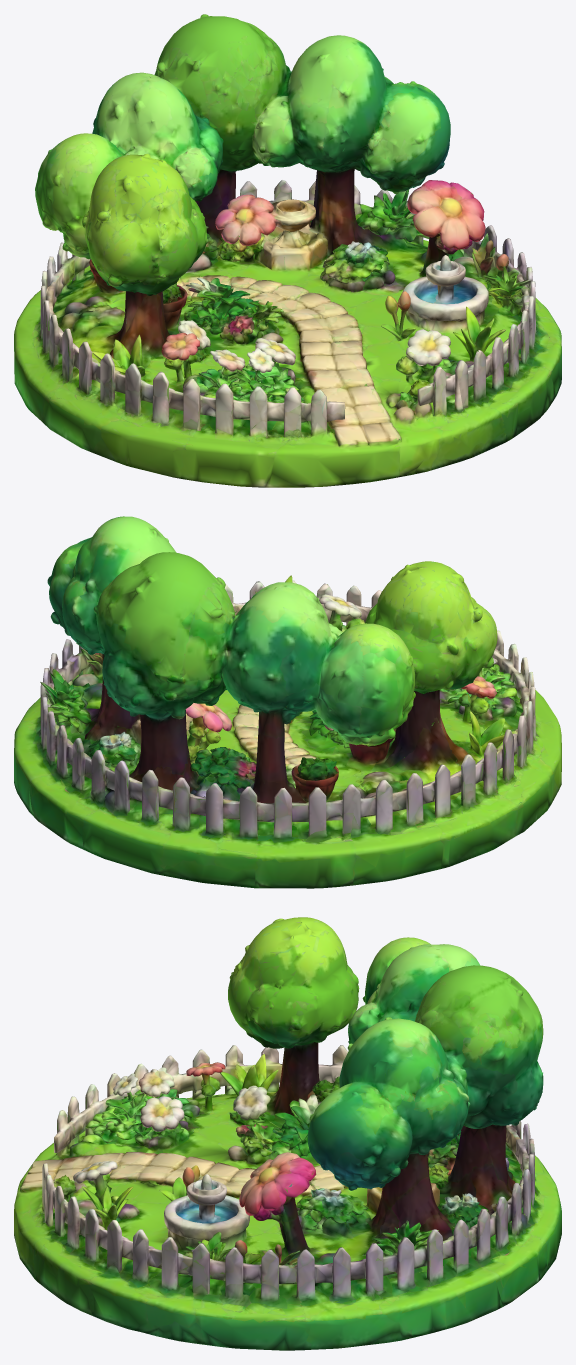
Rendered from m_e88ab1e59bad.glb.
3 views of the same model, one above another, from view 1: azimuth 30°, elevation 25°; view 2: azimuth 150°, elevation 25°; view 3: azimuth 270°, elevation 25° (orthographic).
Visible parts, largest first — view 1: node_id4; view 2: node_id4; view 3: node_id4.
Part boxes in pixels (x1=…): node_id4: x1=14, y1=14, x2=561, y2=487; node_id4: x1=14, y1=516, x2=561, y2=888; node_id4: x1=14, y1=917, x2=561, y2=1350.
Size of the model in its own units: 0.5115 by 0.2856 by 0.5119.
Materials: 1 (1 with a texture image).
